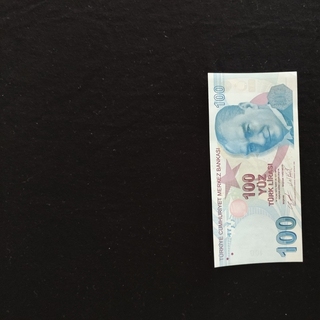100TLFront: (206, 71, 303, 268)
